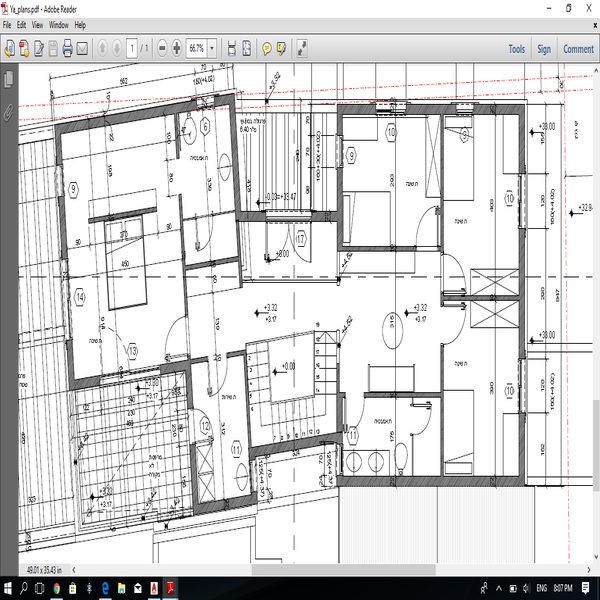door: (257, 218, 321, 267), (160, 313, 191, 360), (435, 254, 469, 295), (403, 404, 439, 442), (205, 352, 232, 400), (439, 302, 468, 344), (193, 214, 219, 256), (344, 400, 368, 440), (418, 206, 439, 251)
wall: (338, 477, 523, 486), (518, 230, 527, 359), (335, 174, 344, 244), (517, 114, 527, 171), (477, 104, 524, 116), (518, 414, 526, 478), (406, 104, 456, 112), (337, 104, 376, 113)
window: (59, 259, 76, 341), (265, 210, 310, 225), (517, 360, 528, 413), (516, 176, 527, 225), (96, 373, 160, 380), (335, 134, 345, 170), (55, 169, 64, 196), (194, 94, 212, 106)
